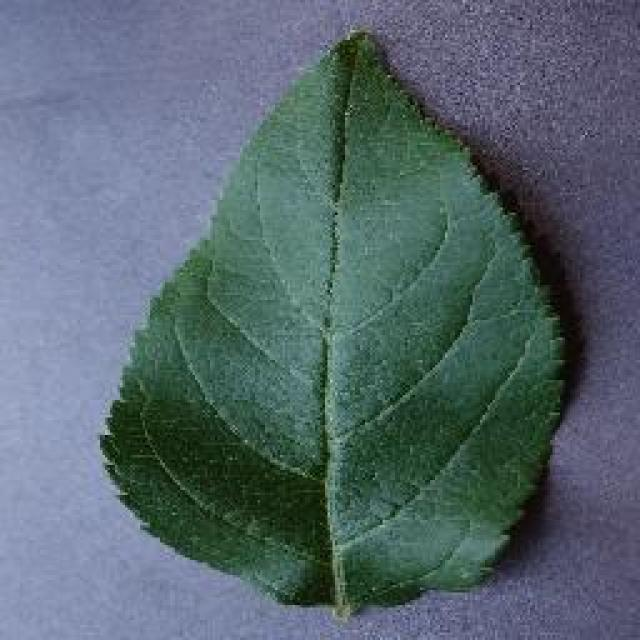apple healthy: (98, 25, 580, 620)
